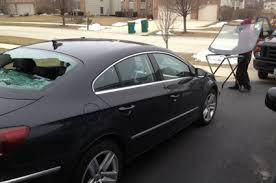Rear-windscreen-Damage: (0, 48, 78, 93)
